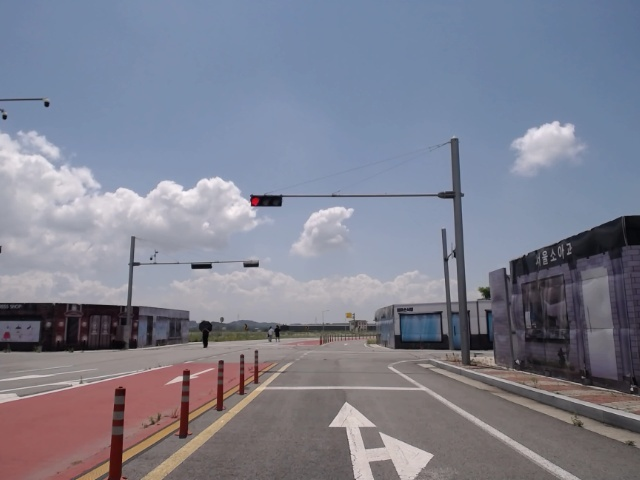red_3: (248, 194, 285, 207)
